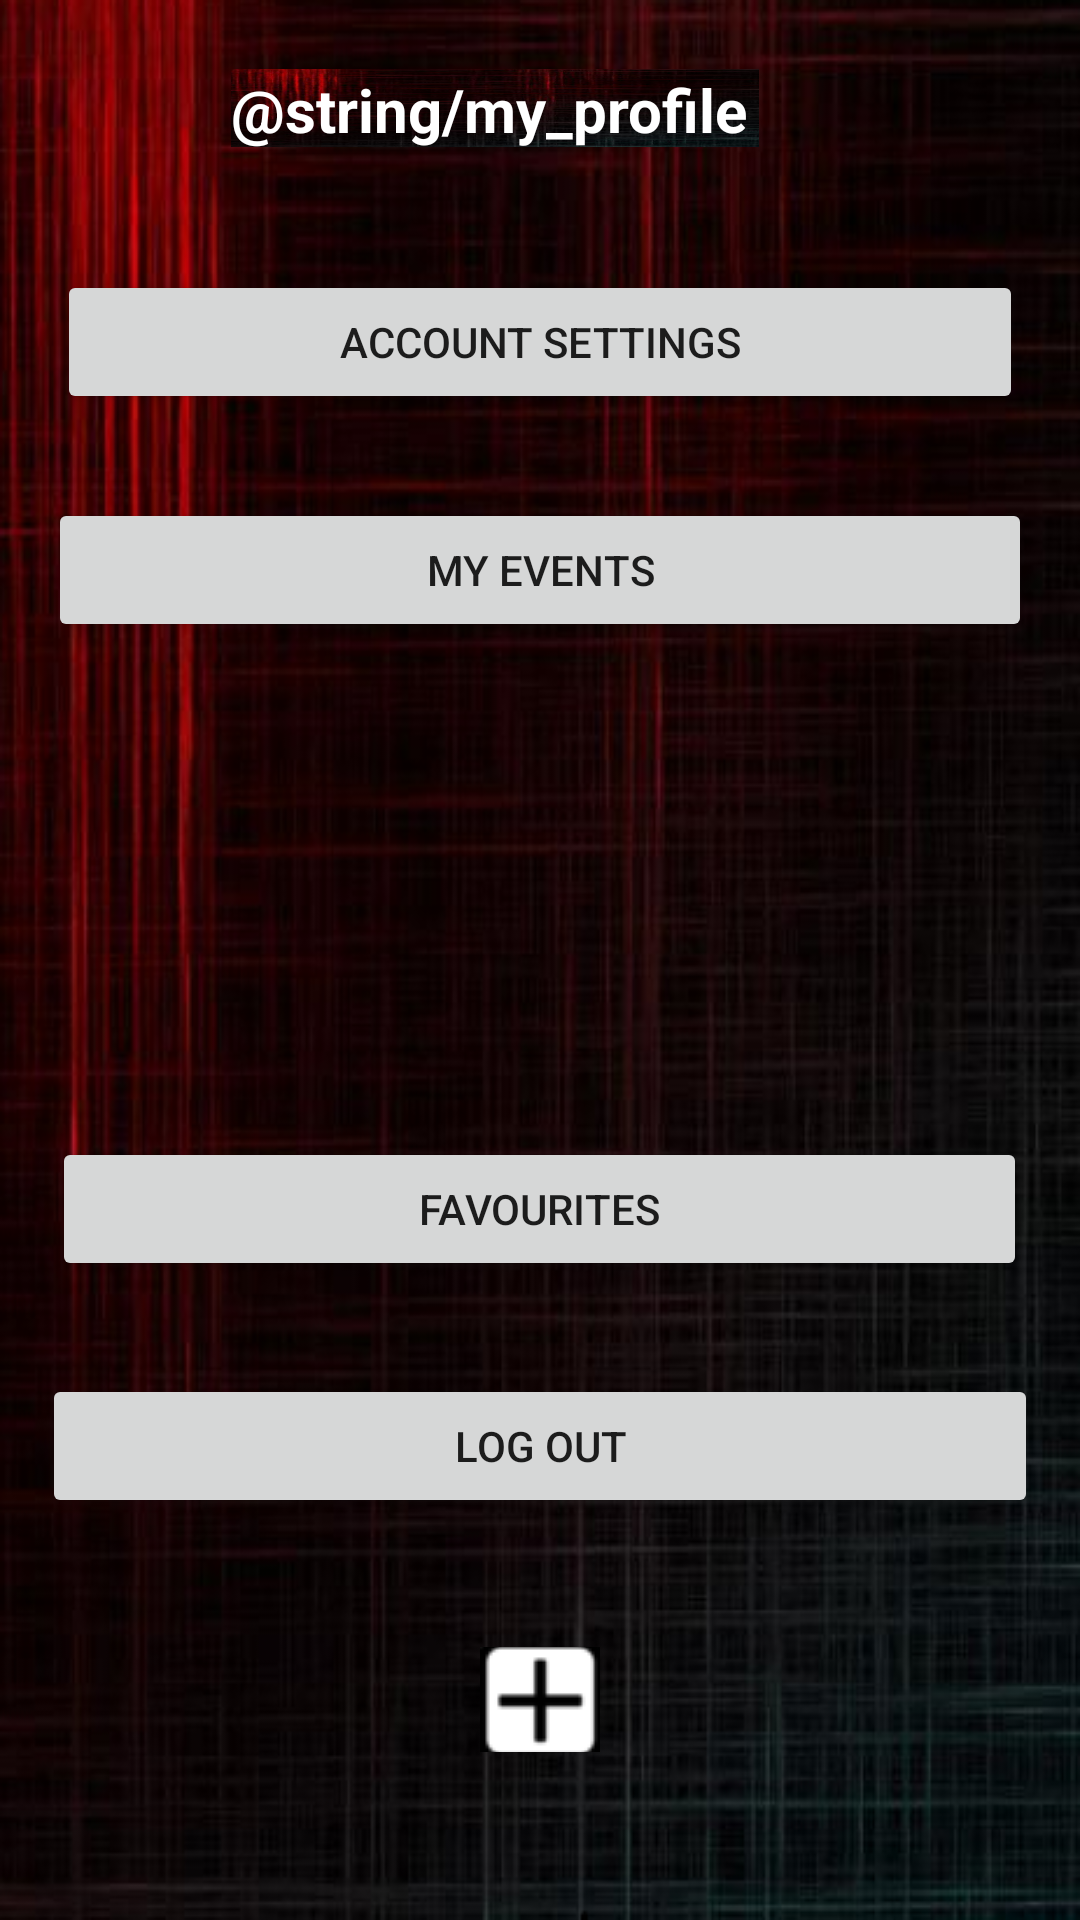

Icon bounding boxes for this 1080 × 1920 phone screenshot, format (x1, y1, x2, y2):
addbuttonimg: (485, 1647, 595, 1752)
